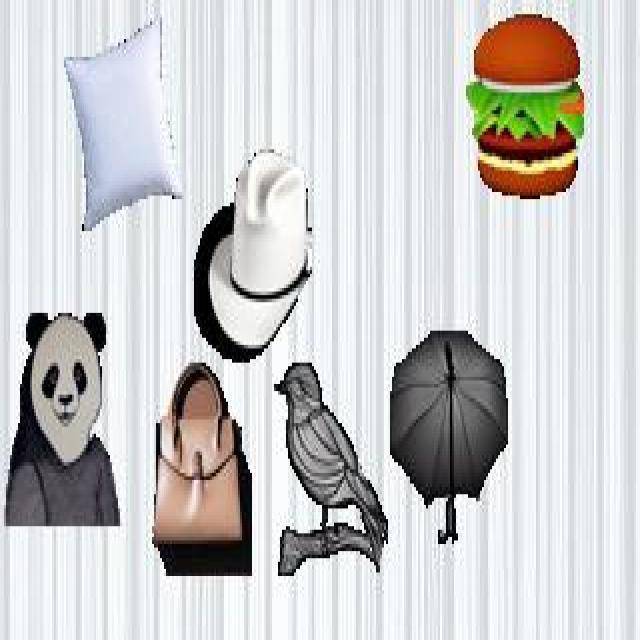Other Objects: (192, 147, 314, 365), (61, 14, 182, 232), (273, 361, 388, 579), (465, 12, 584, 198), (152, 360, 254, 576)
